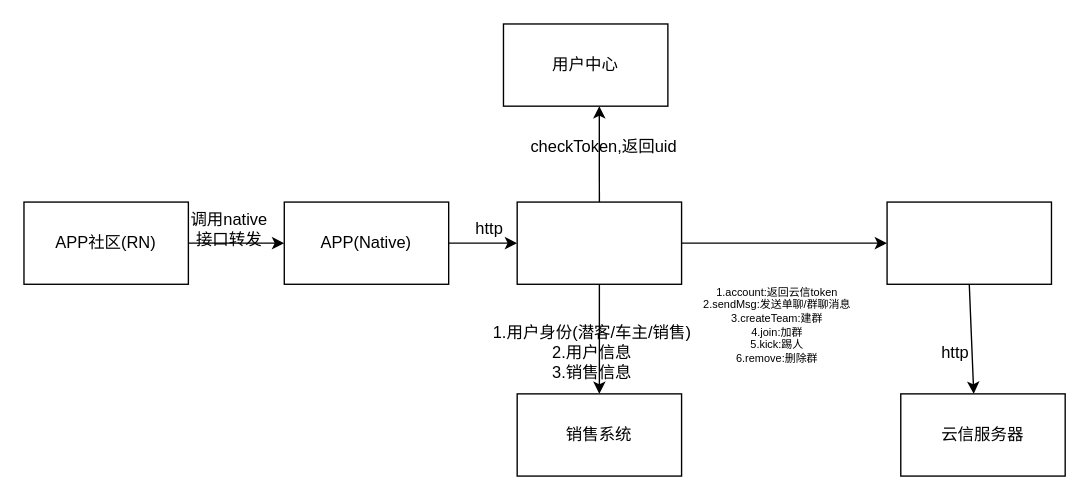
This 1089x500 diagram has some shape labels left out. Here are the shapes that lost their labels. From the top down, the box of each, then its label:
(516, 201, 682, 284): xp-sales-im (销售专属im)
(886, 201, 1051, 284): xp-vsn-im (封装云信api)
